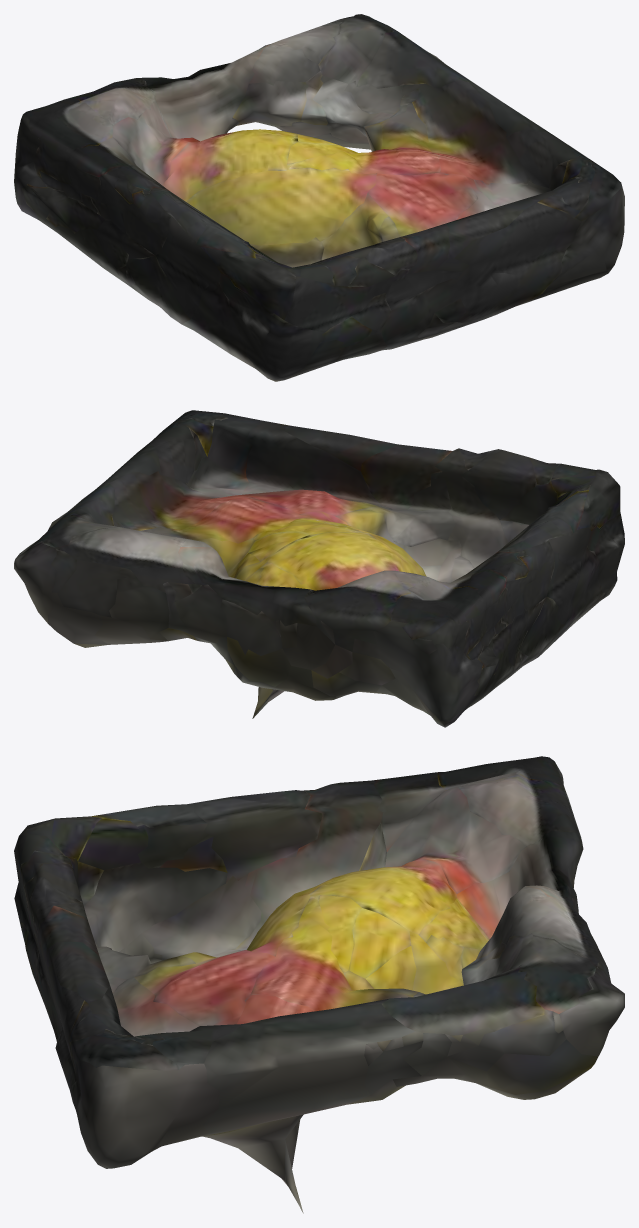
The model's file is hall.glb.
3 views of the same model, one above another, from view 1: azimuth 30°, elevation 25°; view 2: azimuth 150°, elevation 25°; view 3: azimuth 270°, elevation 25° (orthographic). The views are drawn at different scales.
Size of the model in its own units: 0.7659 by 0.4009 by 0.7273.
Materials: 1 (1 with a texture image).
